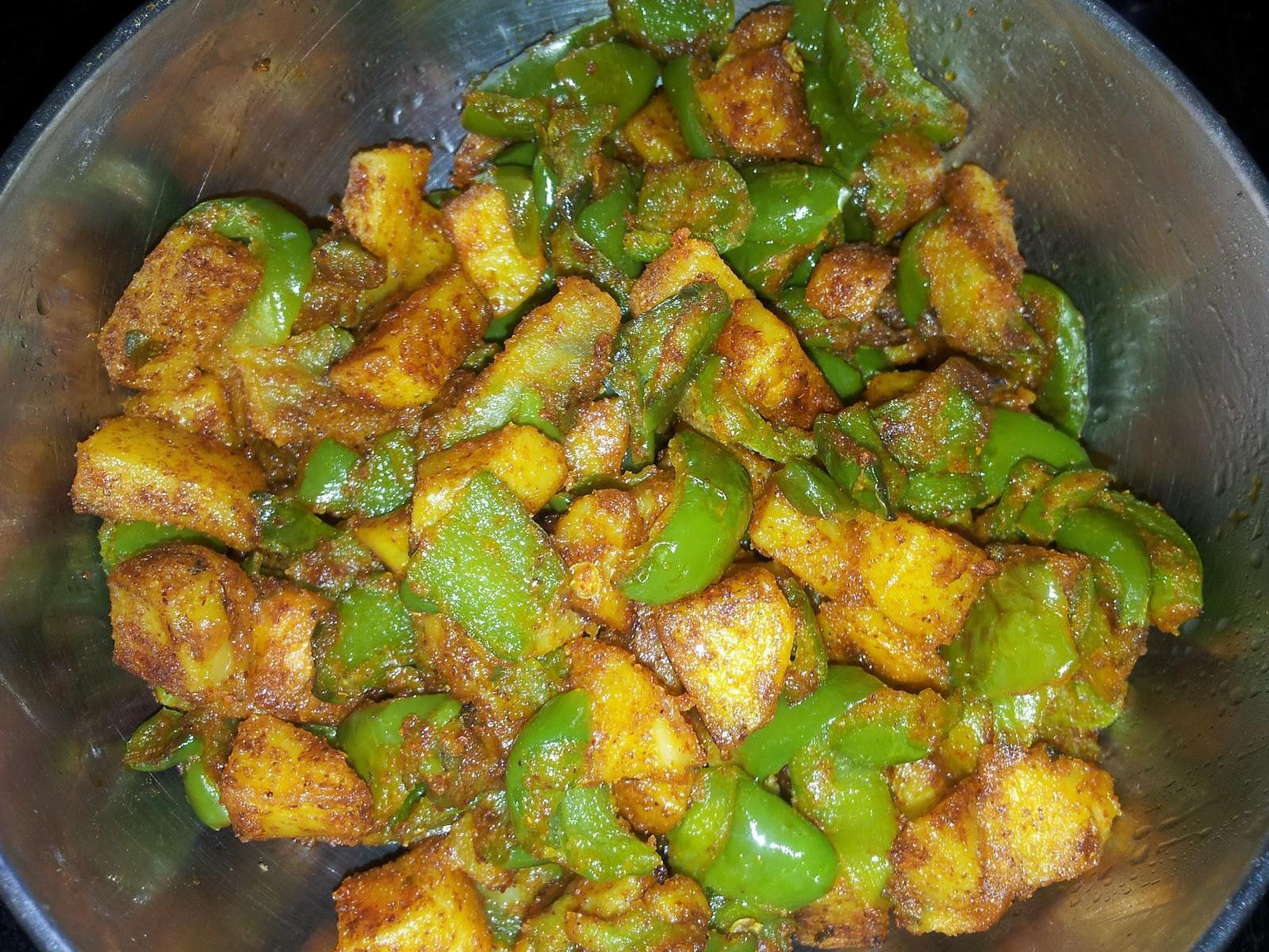AlooMasala: (68, 0, 1208, 952)
